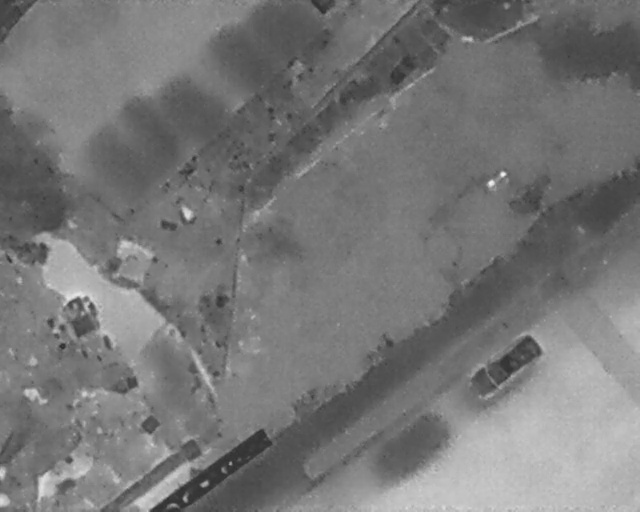Car: (462, 327, 550, 405)
